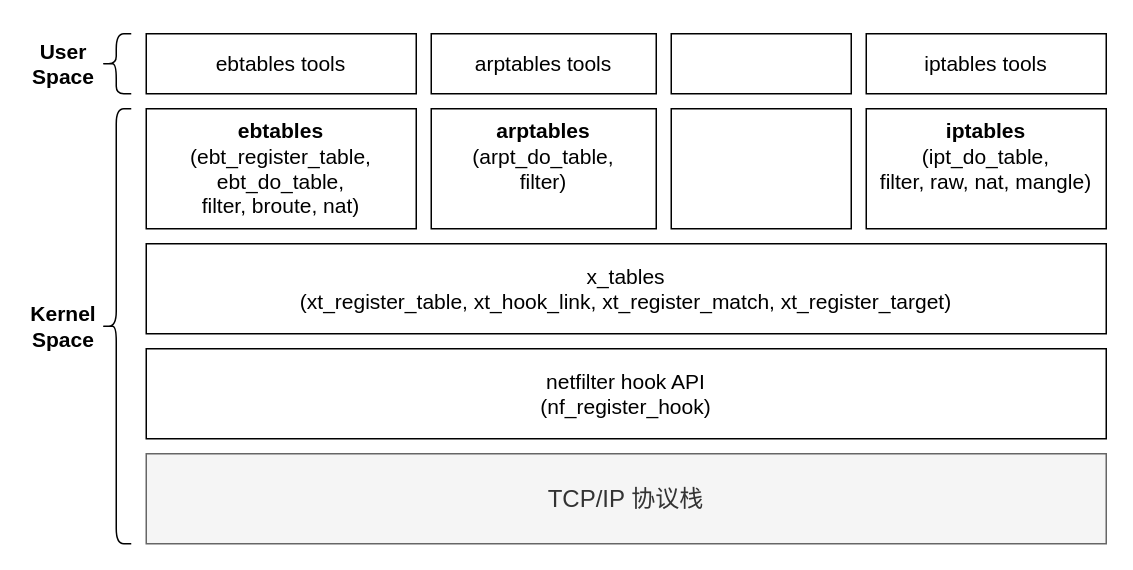
Image size: 1133x570. Some labels were removed from this diagram. The shapes that lost their labels are listed below. From the top down, each one's box as (x1, y1, x2, y2) in pixels, then its label:
(670, 32, 851, 94): ip6tables tools
(670, 107, 851, 229): ip6tables (...)
